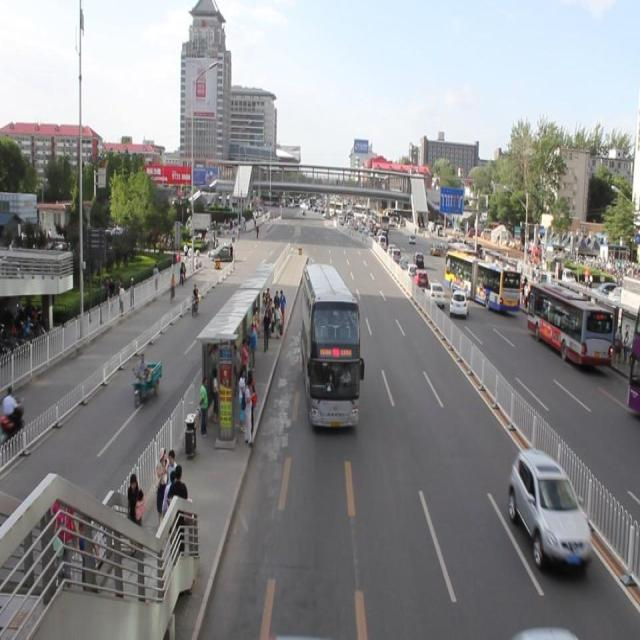car: (505, 449, 594, 579)
van: (299, 260, 366, 432)
